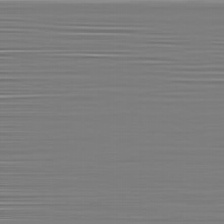cavities: (53, 72, 126, 138)
